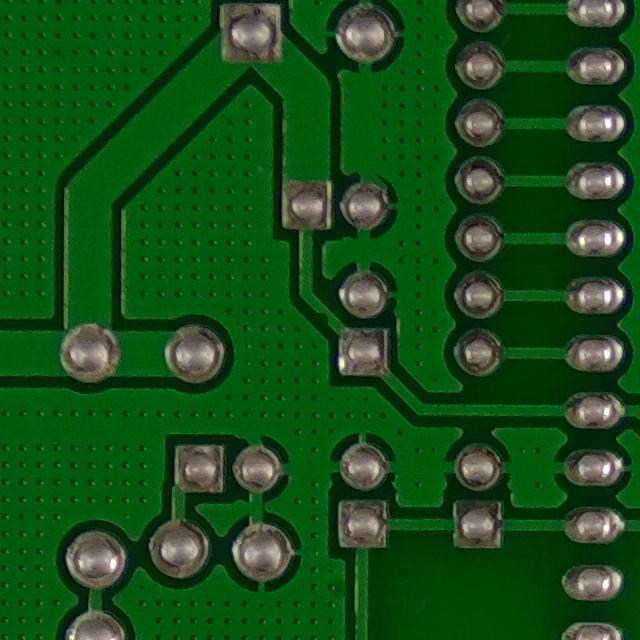mouse_bite: (303, 304, 338, 336)
